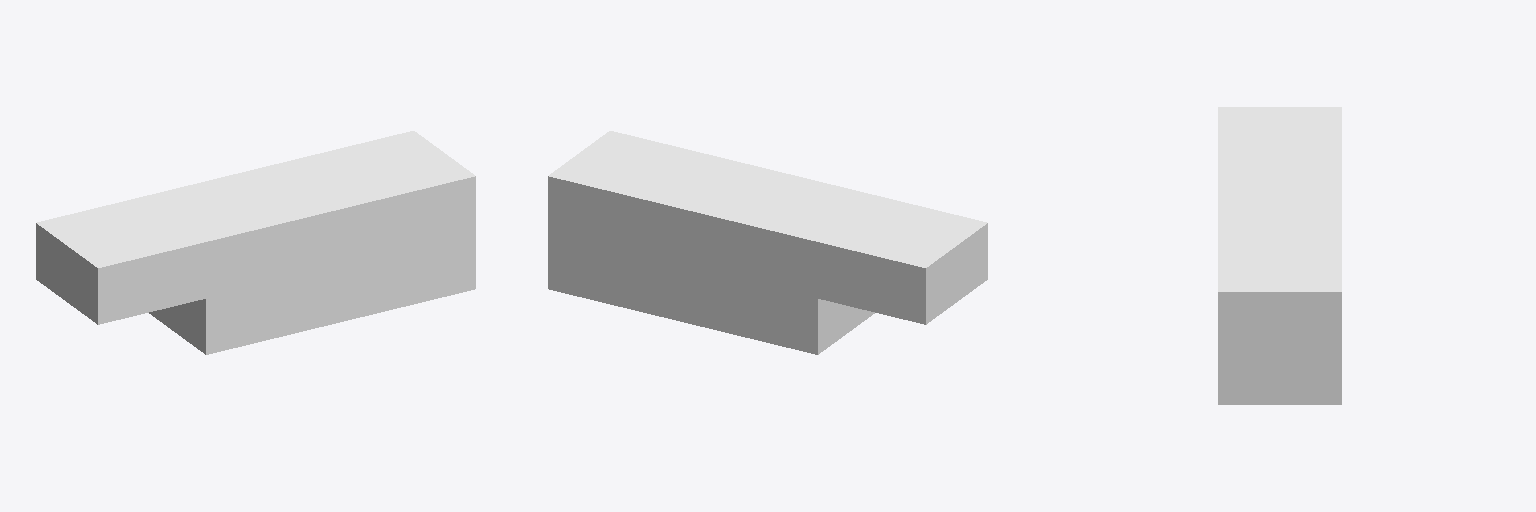
Rendered from gladiator-13.obj.
3 renders of one model, left to right at view 1: azimuth 30°, elevation 25°; view 2: azimuth 150°, elevation 25°; view 3: azimuth 270°, elevation 25°, orthographic.
Parts seen in each view (by area): view 1: object 1; view 2: object 1; view 3: object 1.
Boxes of the visible parts, box(x1,y1,x2,y2) form: object 1: box(36, 131, 475, 354); object 1: box(548, 131, 987, 354); object 1: box(1218, 107, 1341, 404).
Size of the model in its own units: 0.7 by 0.2 by 0.2.